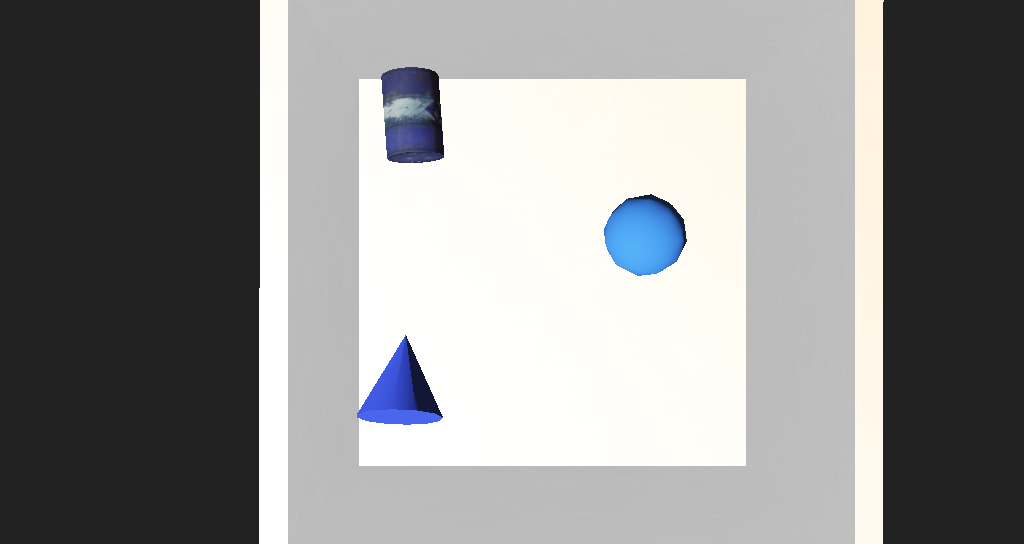cone: (367, 160, 428, 212)
cylinder: (354, 291, 428, 358)
sphere: (539, 224, 606, 272)
